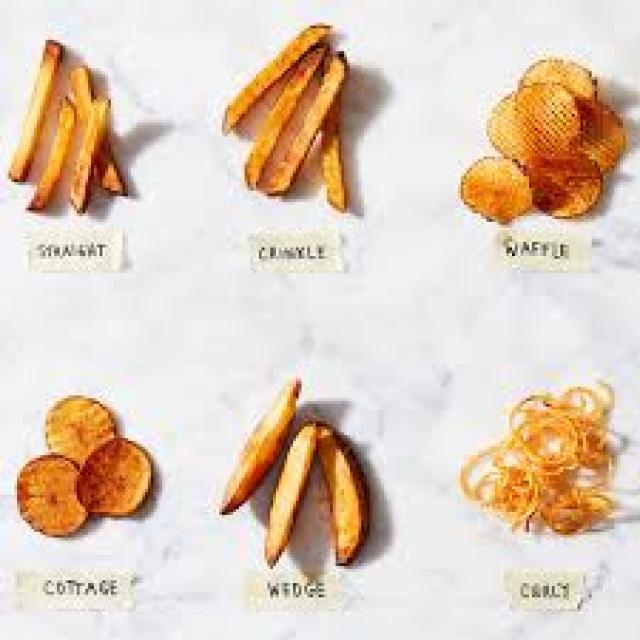Fries: (0, 38, 174, 314), (225, 49, 429, 250), (222, 372, 386, 612)
